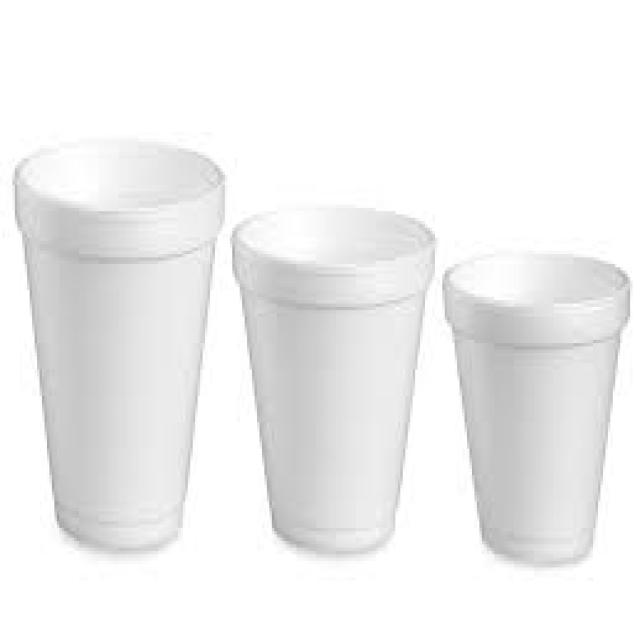styrofoam: (15, 142, 225, 548), (233, 205, 435, 552), (445, 254, 629, 562)
